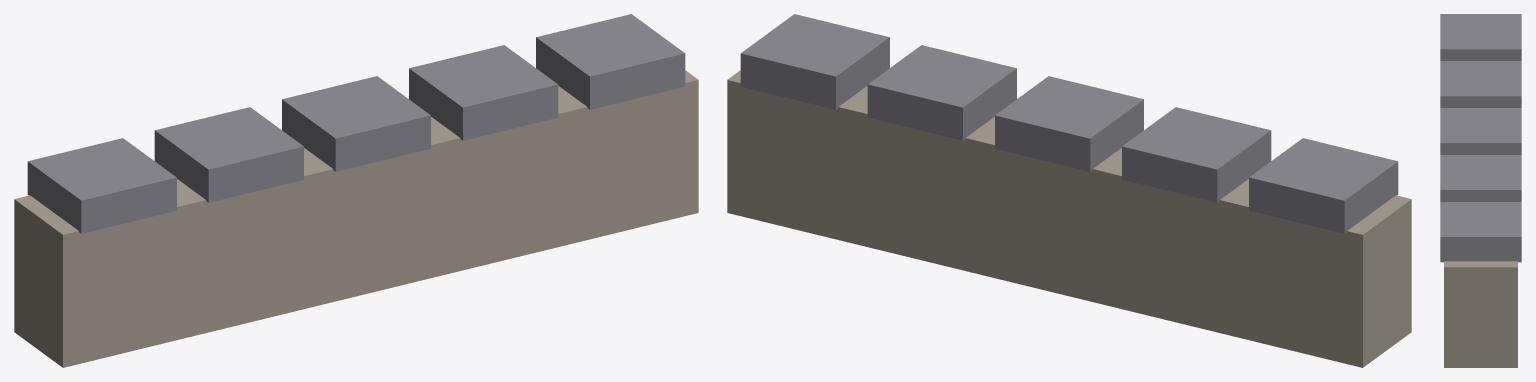
Rendered from town_stone_fence.glb.
3 renders of one model, left to right at view 1: azimuth 30°, elevation 25°; view 2: azimuth 150°, elevation 25°; view 3: azimuth 270°, elevation 25°, orthographic. The views are drawn at different scales.
Parts seen in each view (by area): view 1: stone_fence; view 2: stone_fence; view 3: stone_fence.
Boxes of the visible parts, x1,y1,x2,y2 form: stone_fence: (14, 14, 698, 367); stone_fence: (727, 14, 1411, 367); stone_fence: (1440, 14, 1521, 367).
Bounding box in the file's own units: 3 × 0.745 × 0.44.
